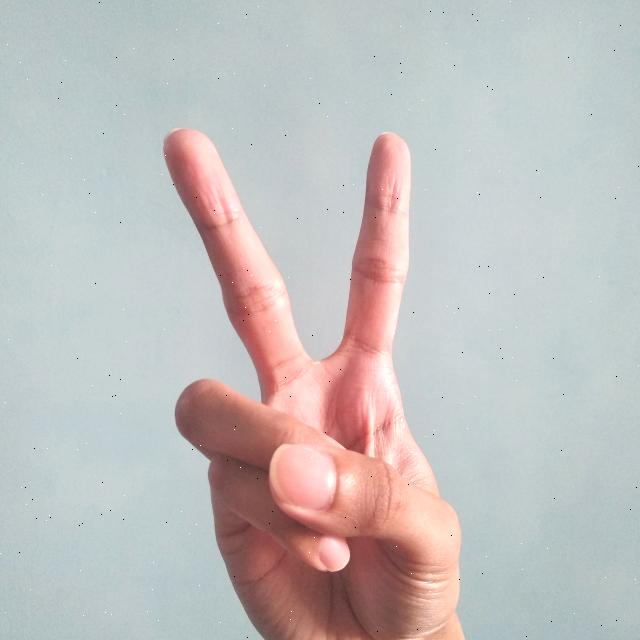V: (154, 118, 469, 640)
